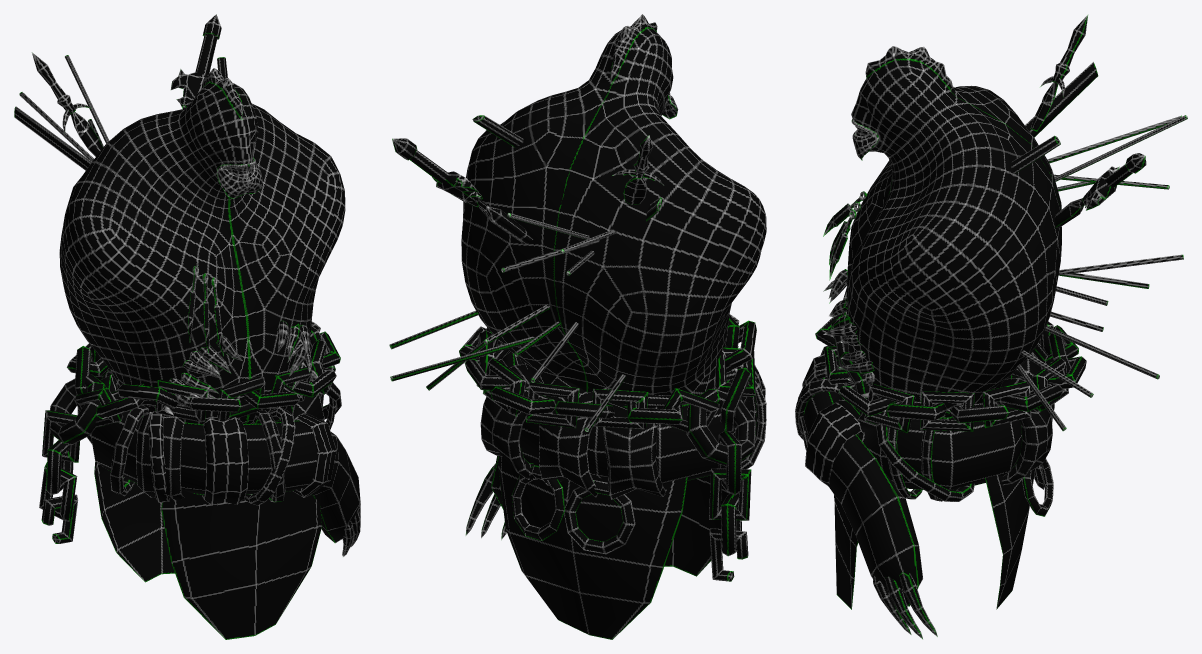
The model's file is Kwak Du-sik.fbx.
3 views of the same model, side by side, from view 1: azimuth 30°, elevation 25°; view 2: azimuth 150°, elevation 25°; view 3: azimuth 270°, elevation 25° (orthographic). The views are drawn at different scales.
Visible parts, largest first — view 1: MAW55; view 2: MAW55; view 3: MAW55.
Part boxes in pixels (left/top/right/bottom): MAW55: left=14, top=14, right=360, bottom=639; MAW55: left=389, top=14, right=766, bottom=639; MAW55: left=795, top=14, right=1187, bottom=639.
Bounding box in the file's own units: 31.55 × 56.56 × 36.56.
